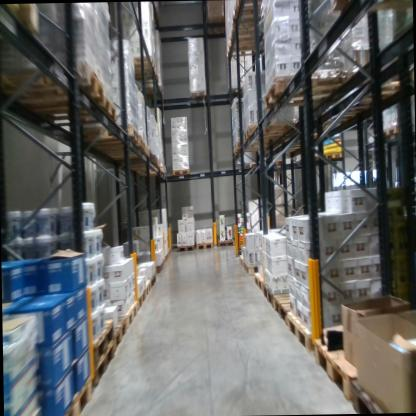pallet: (316, 329, 387, 399), (1, 65, 104, 110), (10, 94, 119, 128), (261, 68, 346, 107), (69, 123, 143, 151), (86, 340, 118, 400), (351, 377, 404, 411), (326, 1, 411, 19), (272, 293, 311, 331), (59, 375, 93, 416), (241, 119, 295, 143), (0, 5, 39, 37), (222, 26, 283, 46), (118, 52, 160, 81), (92, 316, 116, 365), (228, 2, 277, 23), (223, 43, 277, 59), (230, 137, 283, 153), (289, 313, 313, 347), (90, 144, 152, 157), (129, 85, 164, 108), (373, 124, 405, 147), (126, 156, 161, 176), (122, 296, 139, 334), (246, 152, 286, 167), (113, 314, 130, 349), (254, 267, 274, 296), (181, 85, 204, 109), (242, 257, 267, 278), (172, 165, 191, 185), (133, 287, 148, 311), (194, 237, 217, 252), (263, 284, 276, 309), (172, 240, 194, 253), (126, 164, 162, 171), (217, 236, 231, 253), (326, 150, 347, 161), (148, 260, 161, 273), (146, 276, 152, 303), (151, 272, 157, 288), (158, 259, 165, 270), (238, 250, 243, 264)
